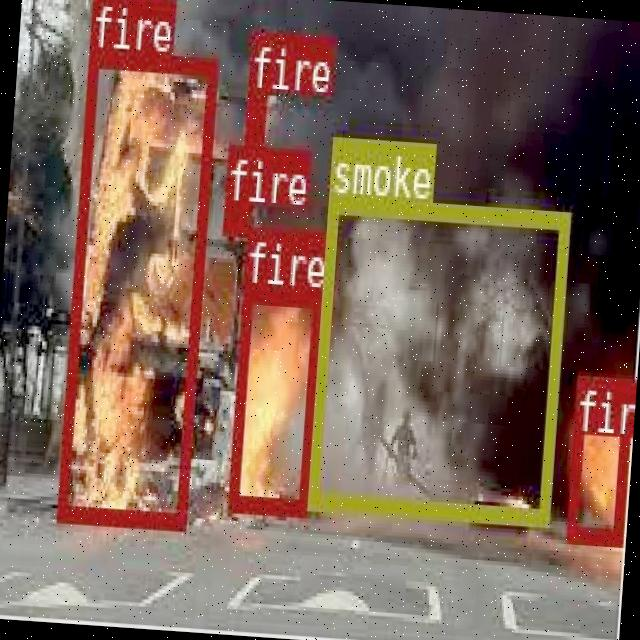fire: (55, 48, 216, 526), (226, 284, 322, 514), (564, 374, 632, 541), (242, 88, 264, 166), (222, 200, 248, 232)
smoke: (306, 194, 567, 520)
